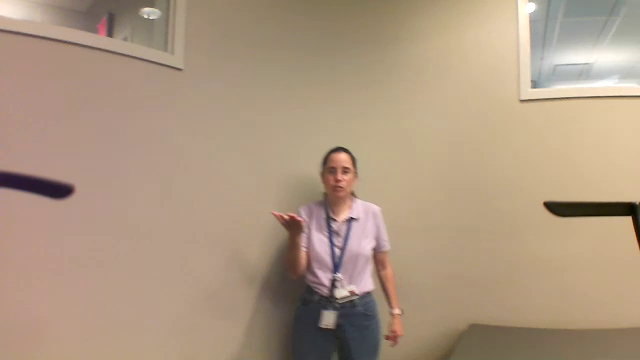land: (253, 199, 315, 244)
